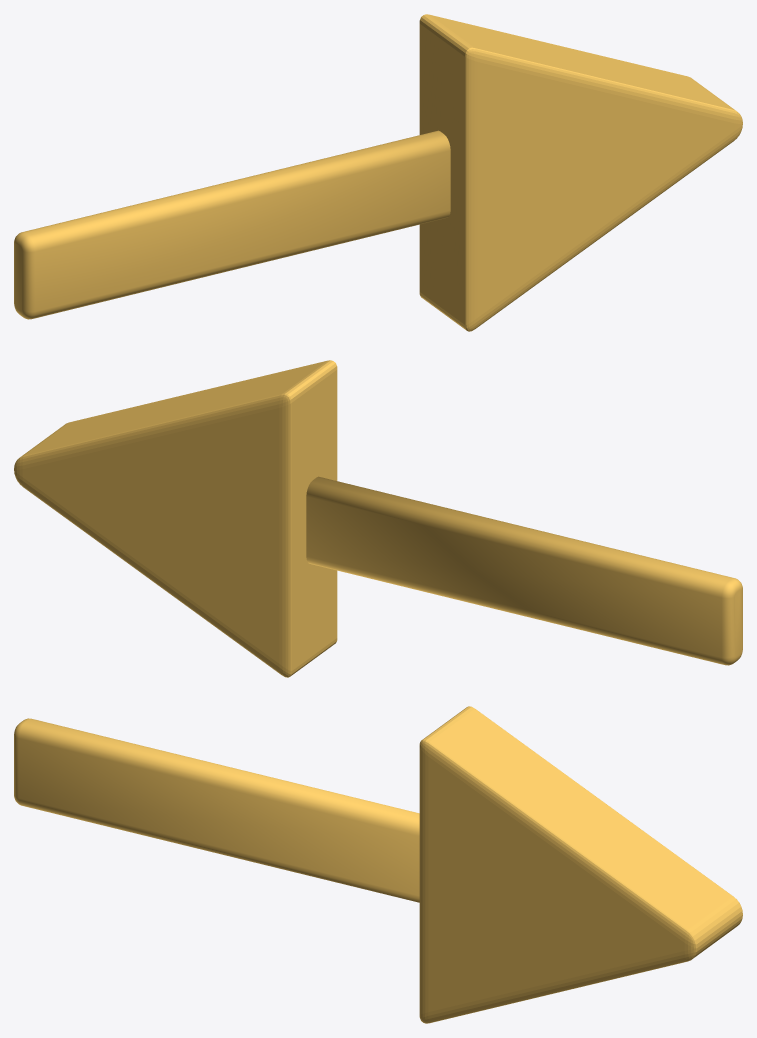
File: arrow1.glb
3 renders of one model, top to bottom at view 1: azimuth 30°, elevation 25°; view 2: azimuth 150°, elevation 25°; view 3: azimuth 330°, elevation 25°, orthographic.
Visible parts, largest first — view 1: Cube.002; view 2: Cube.002; view 3: Cube.002.
Part boxes in pixels (box(x1,y1,x2,y2)): Cube.002: box(14, 14, 742, 331); Cube.002: box(14, 360, 742, 677); Cube.002: box(14, 706, 742, 1023).
Size of the model in its own units: 5.05 by 1.95 by 0.6178.
